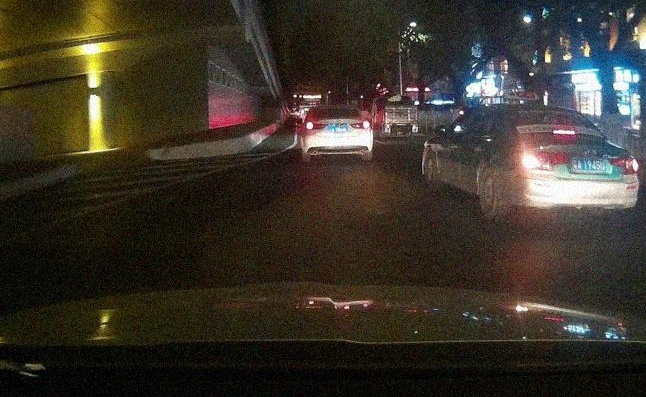L_light: (522, 152, 570, 167), (305, 122, 328, 129)
R_light: (608, 156, 639, 171), (350, 121, 370, 128)
T_light: (552, 130, 575, 135), (334, 107, 342, 109)
night-left: (492, 104, 639, 224)
night-no: (302, 105, 373, 164)
